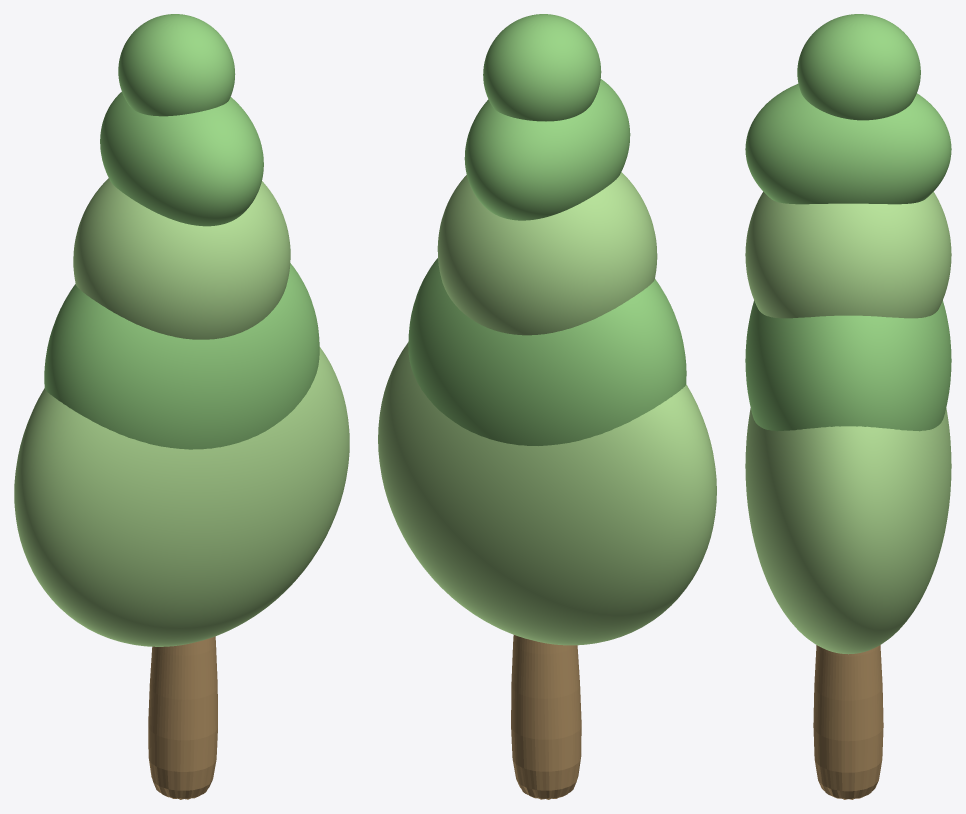
File: tree_ww_cone.glb
3 views of the same model, side by side, from view 1: azimuth 30°, elevation 25°; view 2: azimuth 150°, elevation 25°; view 3: azimuth 270°, elevation 25° (orthographic).
Visible parts, largest first — view 1: Tier1, Tier2, Tier3, Tier4, Trunk, Tip; view 2: Tier1, Tier2, Tier3, Tier4, Trunk, Tip; view 3: Tier1, Tier2, Tier3, Tier4, Tip, Trunk.
Part boxes in pixels (bbox=[...]): Tier1: bbox=[14, 347, 349, 646]; Tier2: bbox=[44, 263, 319, 449]; Tier3: bbox=[73, 178, 290, 339]; Tier4: bbox=[100, 92, 263, 226]; Trunk: bbox=[148, 636, 217, 799]; Tip: bbox=[118, 14, 235, 116]; Tier1: bbox=[378, 342, 716, 645]; Tier2: bbox=[408, 258, 686, 445]; Tier3: bbox=[437, 172, 657, 335]; Tier4: bbox=[464, 79, 630, 220]; Trunk: bbox=[511, 635, 581, 799]; Tip: bbox=[483, 14, 601, 121]; Tier1: bbox=[745, 408, 951, 654]; Tier2: bbox=[745, 300, 951, 431]; Tier3: bbox=[745, 191, 951, 318]; Tier4: bbox=[745, 84, 951, 204]; Tip: bbox=[797, 14, 920, 120]; Trunk: bbox=[813, 645, 883, 799].
Bounding box in the file's own units: 1.75 × 4.03 × 0.9725.
